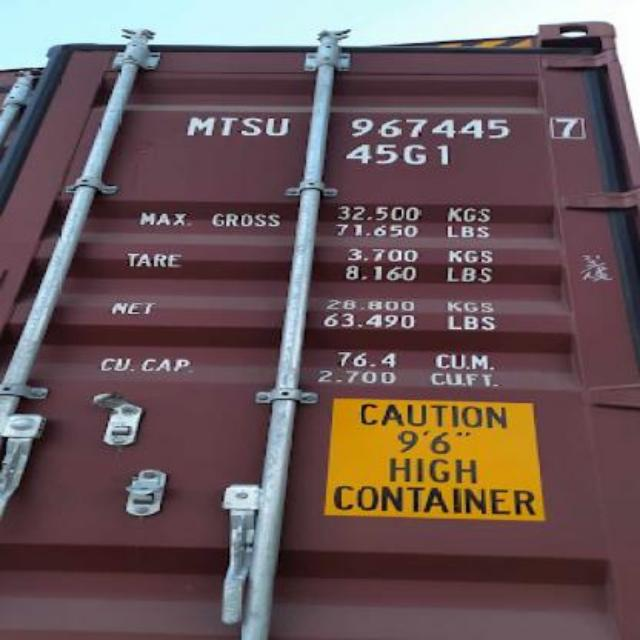4: (456, 107, 484, 143), (428, 112, 458, 144)
5: (482, 112, 516, 144)
6: (372, 112, 400, 140)
7: (544, 113, 588, 143), (402, 110, 424, 146)
9: (344, 115, 372, 139)
M: (186, 112, 214, 138)
S: (238, 111, 264, 141)
T: (214, 106, 238, 142)
U: (264, 110, 292, 140)
